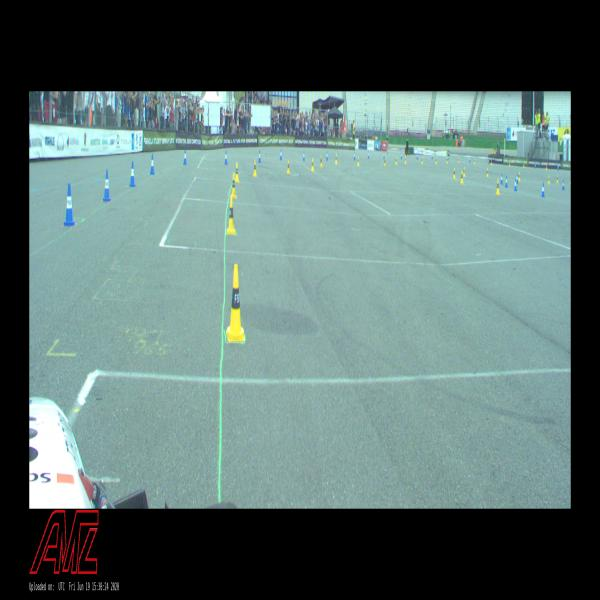blue_cone: (63, 184, 75, 227), (103, 169, 111, 202), (130, 161, 136, 187), (150, 154, 155, 174), (541, 182, 545, 198), (183, 150, 187, 164), (505, 175, 508, 188), (514, 179, 517, 191), (562, 178, 565, 189), (258, 151, 261, 162), (500, 173, 503, 184), (225, 151, 227, 165), (280, 148, 282, 160), (516, 173, 518, 184), (303, 151, 305, 161), (326, 152, 328, 160), (431, 153, 433, 160), (383, 152, 385, 159), (534, 162, 536, 168), (354, 151, 355, 160), (368, 151, 369, 159), (401, 152, 402, 159), (417, 153, 418, 160), (469, 156, 470, 162), (448, 154, 449, 160), (488, 159, 489, 164), (558, 165, 558, 170)
yellow_cone: (226, 264, 245, 341), (227, 195, 236, 235), (232, 174, 236, 198), (235, 162, 239, 182), (495, 179, 500, 195), (253, 160, 257, 177), (287, 159, 290, 174), (311, 158, 314, 171), (460, 170, 463, 183), (320, 155, 322, 168), (486, 167, 488, 178), (384, 156, 386, 167), (357, 156, 359, 166), (453, 168, 455, 178), (335, 154, 337, 164), (463, 167, 465, 177), (548, 175, 550, 184), (556, 175, 558, 184), (518, 172, 520, 181), (446, 156, 448, 164), (395, 156, 397, 164), (421, 157, 423, 164), (435, 157, 437, 164), (405, 155, 406, 164), (474, 157, 475, 164), (523, 161, 524, 168), (491, 160, 492, 166), (509, 161, 510, 167), (546, 164, 547, 170), (458, 157, 458, 163)
